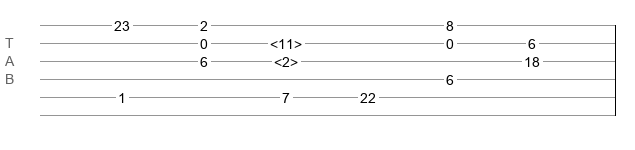0: (200, 36, 208, 46), (446, 36, 454, 46)
1: (118, 90, 126, 100)
18: (524, 54, 540, 64)
2: (200, 18, 208, 28)
22: (360, 90, 376, 100)
23: (114, 18, 130, 28)
6: (200, 54, 208, 64), (446, 72, 454, 82), (528, 36, 536, 46)
7: (282, 90, 290, 100)
8: (446, 18, 454, 28)
harmonic: (270, 36, 302, 46), (274, 54, 298, 64)
